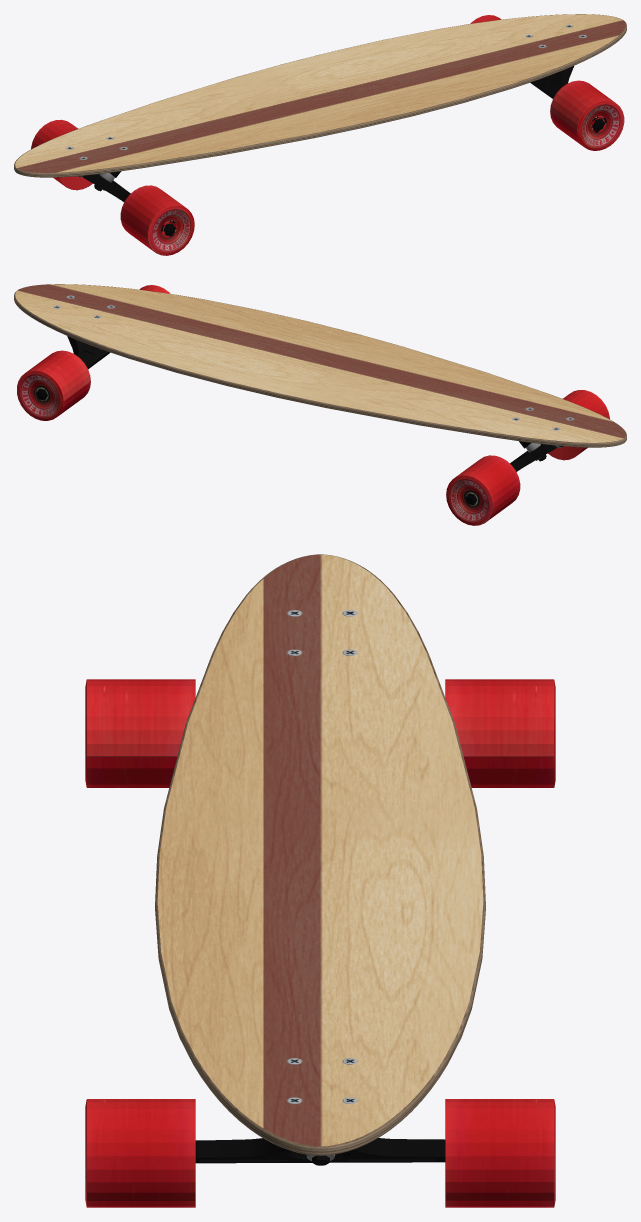
Rendered from longboard.obj.
The picture shows the model from 3 angles, top to bottom: view 1: azimuth 30°, elevation 25°; view 2: azimuth 150°, elevation 25°; view 3: azimuth 270°, elevation 25°; orthographic projection. The views are drawn at different scales.
Parts seen in each view (by area): view 1: Line001, Wheel002, Wheel001, Wheel003, Veshalka, Veshalka001; view 2: Line001, Wheel003, Wheel, Wheel002, Veshalka, Veshalka001; view 3: Line001, Wheel001, Wheel, Wheel002, Wheel003, Veshalka.
Boxes of the visible parts, x1,y1,x2,y2 form: Line001: [14, 14, 626, 177]; Wheel002: [120, 185, 194, 255]; Wheel001: [550, 80, 624, 150]; Wheel003: [31, 119, 92, 190]; Veshalka: [530, 66, 573, 98]; Veshalka001: [82, 174, 130, 201]; Line001: [14, 284, 626, 447]; Wheel003: [446, 455, 520, 525]; Wheel: [17, 350, 90, 420]; Wheel002: [548, 390, 609, 460]; Veshalka: [67, 336, 110, 369]; Veshalka001: [510, 444, 557, 471]; Line001: [155, 554, 485, 1155]; Wheel001: [85, 1099, 195, 1207]; Wheel: [445, 1099, 555, 1207]; Wheel002: [85, 679, 195, 787]; Wheel003: [445, 679, 555, 787]; Veshalka: [195, 1138, 445, 1163].
Size of the model in its own units: 380 by 40.33 by 127.
